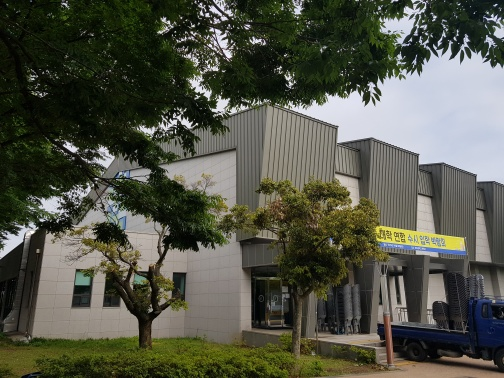Gym: (26, 113, 497, 337), (236, 101, 494, 259), (242, 244, 427, 324)
